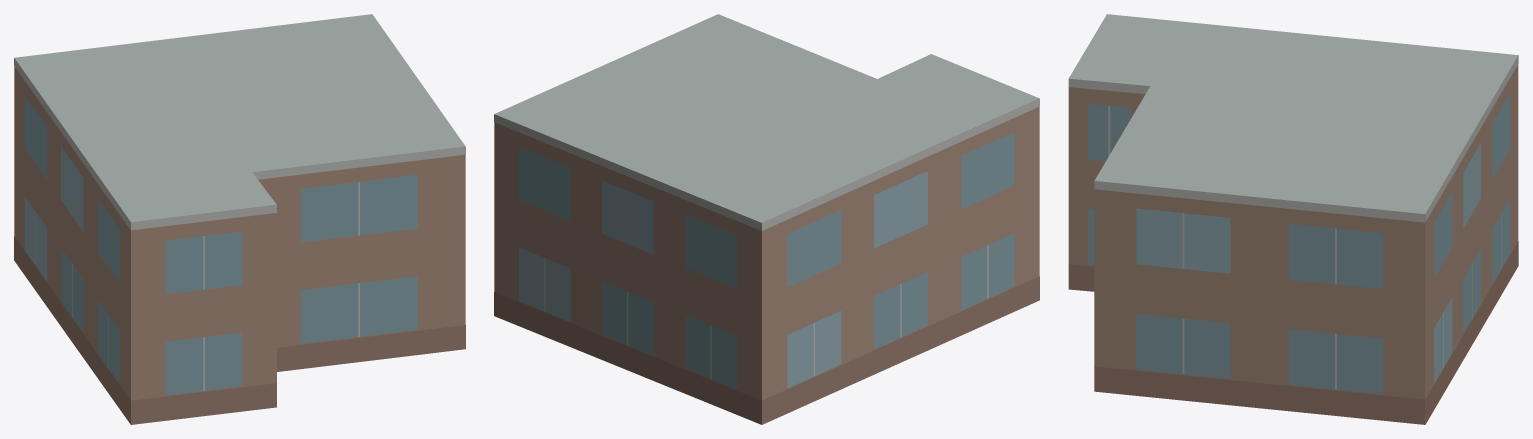
Rendered from survey-upis-32948255.glb.
3 views of the same model, side by side, from view 1: azimuth 30°, elevation 25°; view 2: azimuth 150°, elevation 25°; view 3: azimuth 270°, elevation 25° (orthographic). The views are drawn at different scales.
Parts seen in each view (by area): view 1: survey-upis-32948255.tmp; view 2: survey-upis-32948255.tmp; view 3: survey-upis-32948255.tmp.
Part boxes in pixels (x1=…): survey-upis-32948255.tmp: x1=14, y1=14, x2=465, y2=424; survey-upis-32948255.tmp: x1=494, y1=14, x2=1039, y2=424; survey-upis-32948255.tmp: x1=1068, y1=14, x2=1518, y2=424.
Size of the model in its own units: 12.44 by 6.1 by 11.82.
